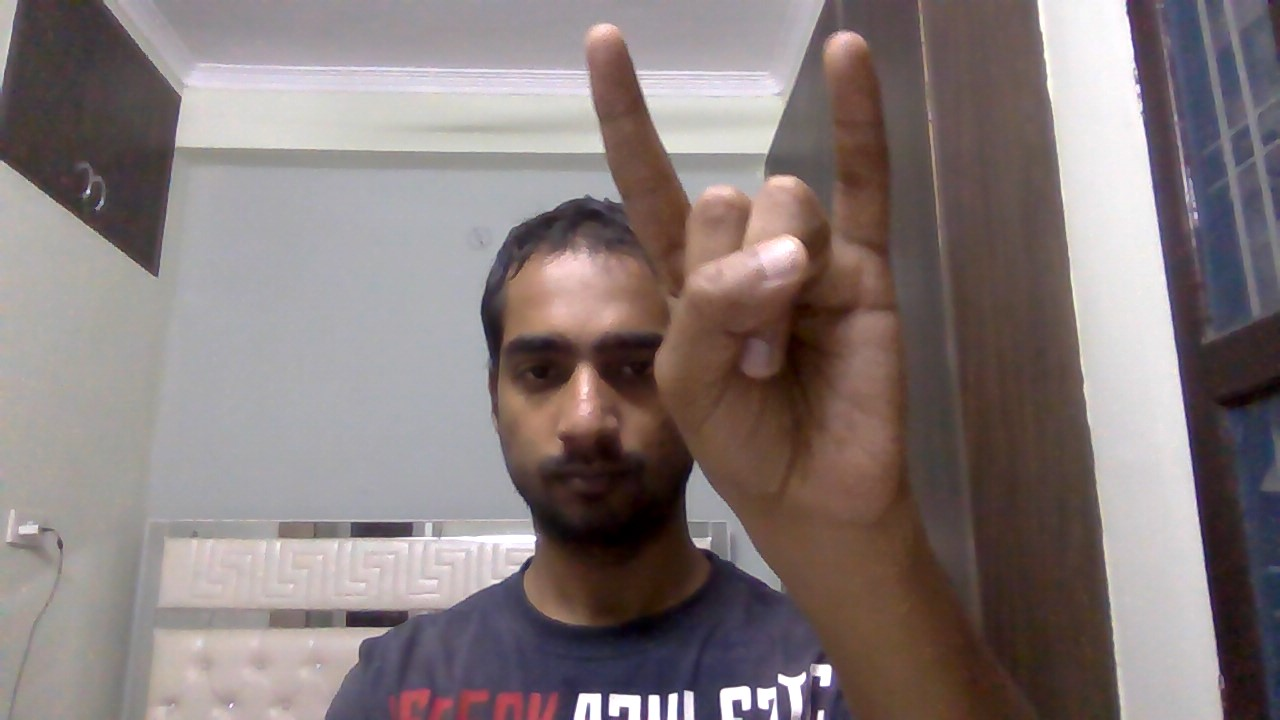Select All: (570, 14, 940, 527)
